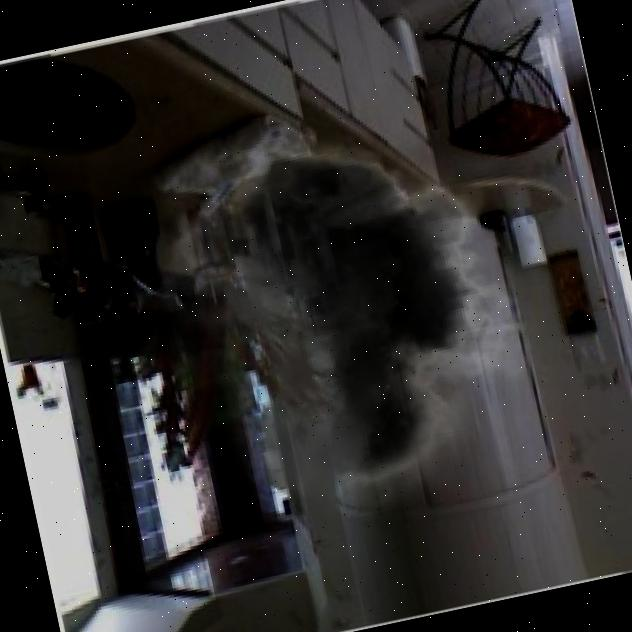smoke: (80, 68, 574, 557)
